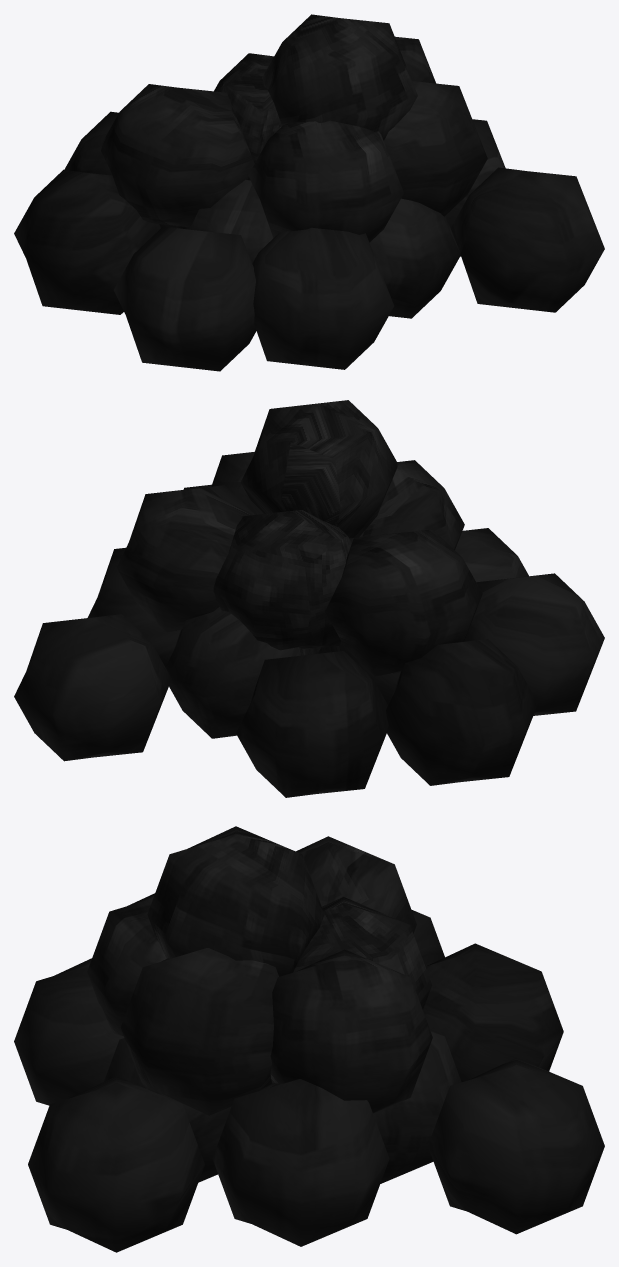
The model's file is CoalCold.fbx.
The picture shows the model from 3 angles, top to bottom: view 1: azimuth 30°, elevation 25°; view 2: azimuth 150°, elevation 25°; view 3: azimuth 270°, elevation 25°; orthographic projection. The views are drawn at different scales.
Visible parts, largest first — view 1: pCube9, pCube1, pCube10, pCube11, pCube12, pCube16, pCube6, pCube15, pCube3, pCube14, pCube2, pCube7 (+2 smaller); view 2: pCube8, pCube7, pCube6, pCube11, pCube16, pCube14, pCube13, pCube1, pCube4, pCube12, pCube5, pCube10 (+2 smaller); view 3: pCube9, pCube8, pCube5, pCube15, pCube13, pCube16, pCube7, pCube10, pCube14, pCube4, pCube12, pCube11 (+2 smaller).
Part boxes in pixels (<box>): pCube9: <box>450,167,604,312</box>; pCube1: <box>113,226,256,371</box>; pCube10: <box>252,227,394,369</box>; pCube11: <box>99,84,254,226</box>; pCube12: <box>248,120,403,242</box>; pCube16: <box>262,14,417,140</box>; pCube6: <box>14,169,160,314</box>; pCube15: <box>384,81,487,216</box>; pCube3: <box>369,198,460,318</box>; pCube14: <box>214,53,281,180</box>; pCube2: <box>178,179,273,263</box>; pCube7: <box>64,111,178,227</box>; pCube8: <box>14,614,171,761</box>; pCube7: <box>236,651,388,797</box>; pCube6: <box>386,639,537,785</box>; pCube11: <box>325,529,482,676</box>; pCube16: <box>241,400,398,538</box>; pCube14: <box>213,510,351,650</box>; pCube13: <box>116,485,254,632</box>; pCube1: <box>464,573,604,715</box>; pCube4: <box>165,607,317,738</box>; pCube12: <box>349,460,464,549</box>; pCube5: <box>87,547,180,666</box>; pCube10: <box>455,528,528,582</box>; pCube9: <box>28,1076,204,1252</box>; pCube8: <box>428,1058,604,1234</box>; pCube5: <box>212,1079,389,1246</box>; pCube15: <box>120,948,278,1115</box>; pCube13: <box>270,949,432,1113</box>; pCube16: <box>147,826,324,976</box>; pCube7: <box>423,943,563,1081</box>; pCube10: <box>14,958,124,1105</box>; pCube14: <box>293,897,431,1009</box>; pCube4: <box>373,1030,461,1183</box>; pCube12: <box>87,893,166,1036</box>; pCube11: <box>296,836,416,933</box>.
Size of the model in its own units: 1.16 by 0.6926 by 1.11.
Materials: 1 (1 with a texture image).
